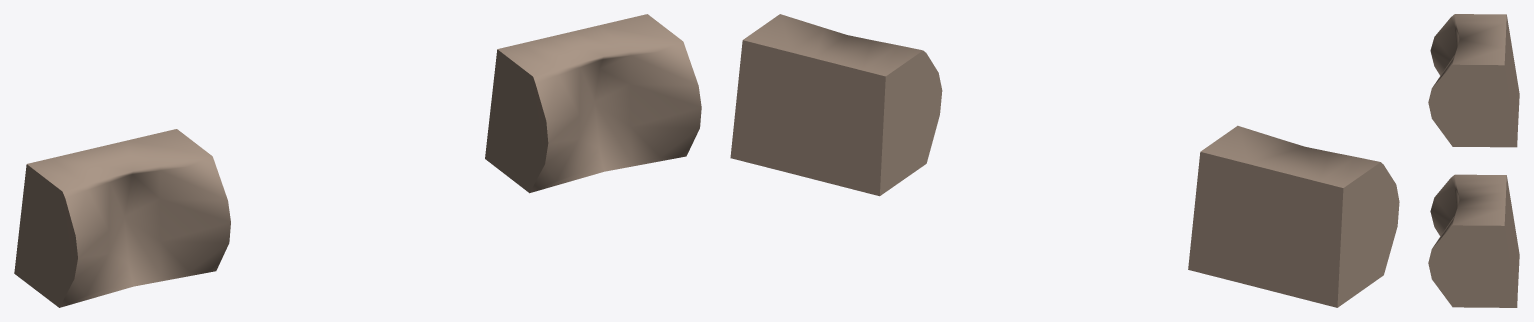
Rendered from m_airlift_60a7cf93.glb.
3 renders of one model, left to right at view 1: azimuth 30°, elevation 25°; view 2: azimuth 150°, elevation 25°; view 3: azimuth 270°, elevation 25°, orthographic. The views are drawn at different scales.
Visible parts, largest first — view 1: mesh; view 2: mesh; view 3: mesh.
Boxes of the visible parts, <box> form: mesh: <box>14,14,701,307</box>; mesh: <box>730,14,1399,307</box>; mesh: <box>1428,14,1519,307</box>.
Bounding box in the file's own units: 1413 × 249 × 255.
